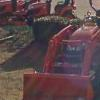Tractor: (19, 7, 100, 100)
